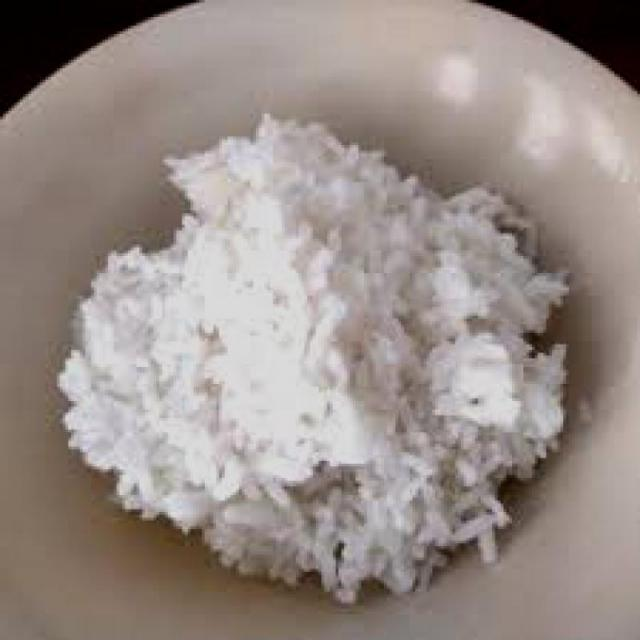rice: (61, 112, 567, 603)
